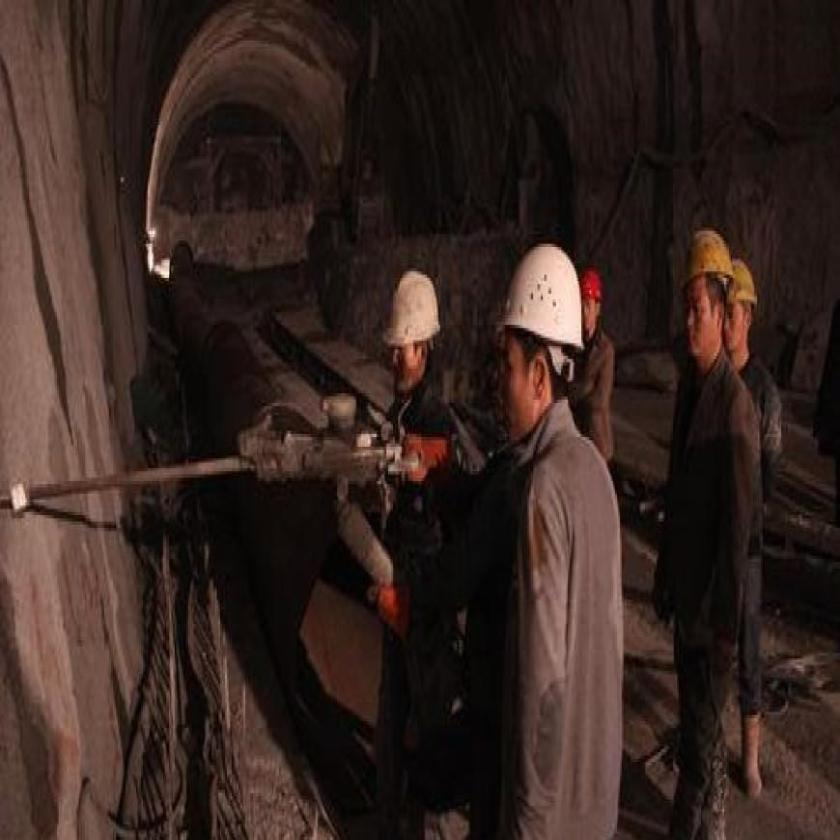Con_casco: (492, 239, 586, 447), (386, 270, 440, 384), (582, 272, 606, 332)
